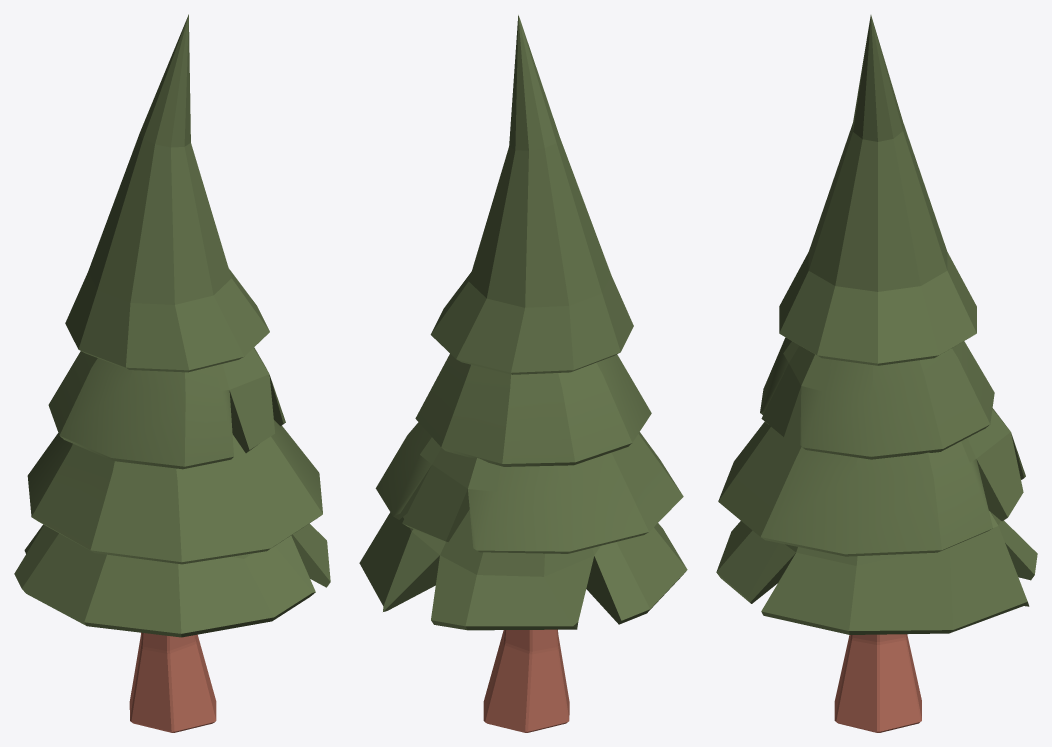
Rendered from pine_tree_3_v1.fbx.
3 views of the same model, side by side, from view 1: azimuth 30°, elevation 25°; view 2: azimuth 150°, elevation 25°; view 3: azimuth 270°, elevation 25° (orthographic).
Visible parts, largest first — view 1: leaves_4, leaves_2, leaves_1, leaves_3, trunk; view 2: leaves_4, leaves_2, leaves_1, leaves_3, trunk; view 3: leaves_4, leaves_2, leaves_1, leaves_3, trunk.
Part boxes in pixels (x1,y1,x2,y2): leaves_4: (65,14,269,372); leaves_2: (27,420,322,564); leaves_1: (14,523,330,637); leaves_3: (48,347,285,469); trunk: (129,632,216,732); leaves_4: (430,15,633,374); leaves_2: (375,422,683,553); leaves_1: (359,510,687,630); leaves_3: (415,353,651,466); trunk: (483,629,569,732); leaves_4: (779,15,976,365); leaves_2: (718,408,1025,556); leaves_1: (716,511,1037,634); leaves_3: (760,337,994,459); trunk: (834,634,921,732).
Bounding box in the file's own units: 5.09 × 12.26 × 5.06.
